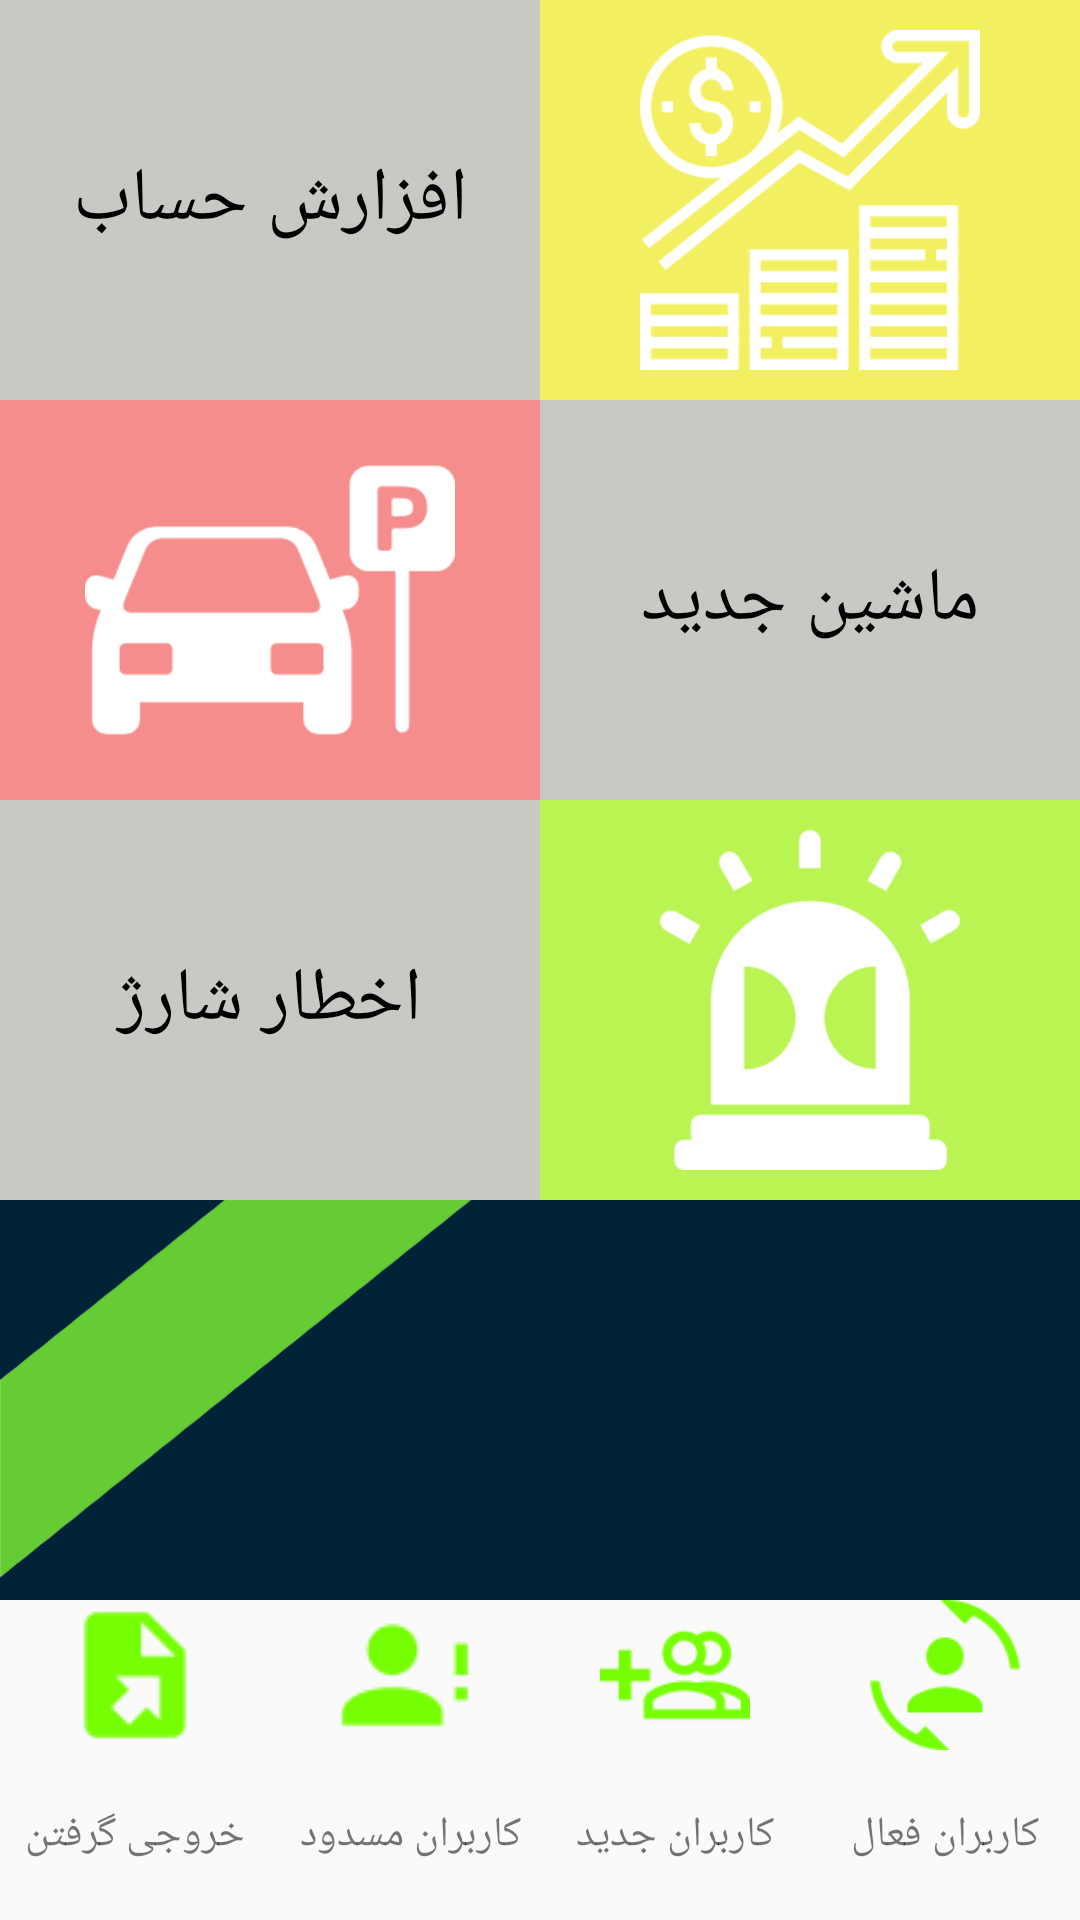

Screen size 1080 x 1920. Icon name, then its center in pixels as (x=x, y=y):
adduser: (x=675, y=1675)
file export: (x=135, y=1675)
useractive: (x=926, y=1693)
userdeactive: (x=405, y=1675)
